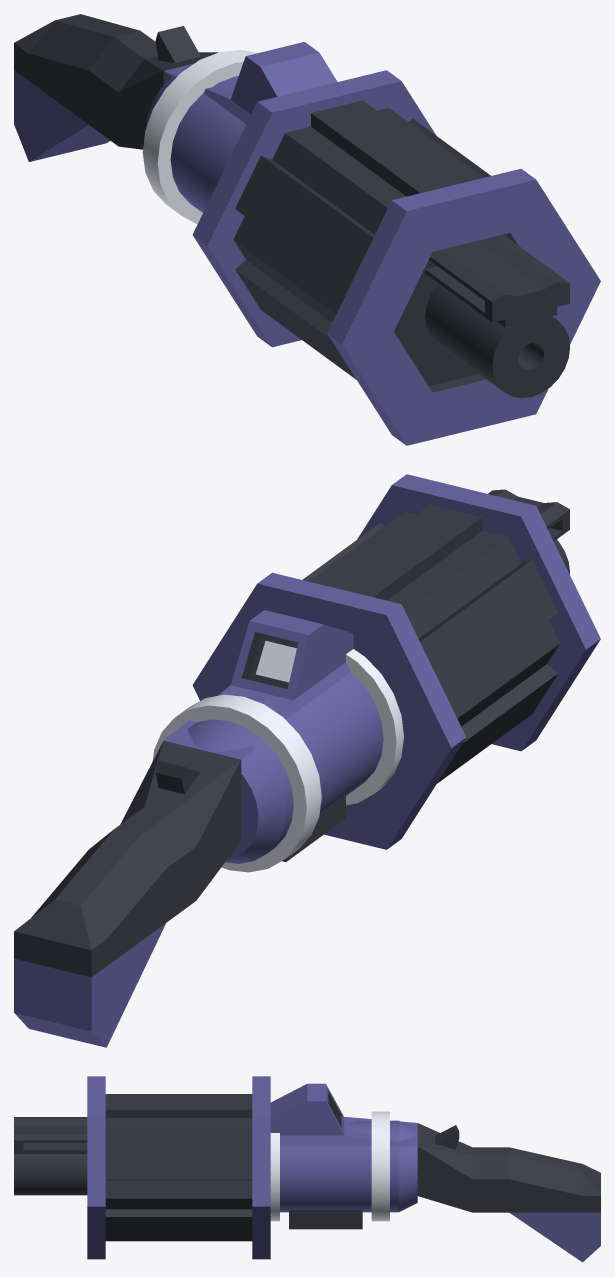
File: GunFive.fbx
3 renders of one model, top to bottom at view 1: azimuth 30°, elevation 25°; view 2: azimuth 150°, elevation 25°; view 3: azimuth 270°, elevation 25°, orthographic. The views are drawn at different scales.
Parts seen in each view (by area): view 1: mergedBlocks; view 2: mergedBlocks; view 3: mergedBlocks.
Part boxes in pixels (box(x1,y1,x2,y2)): mergedBlocks: box(14, 14, 600, 445); mergedBlocks: box(14, 474, 600, 1047); mergedBlocks: box(14, 1076, 600, 1262).
Size of the model in its own units: 10 by 9.5 by 32.
